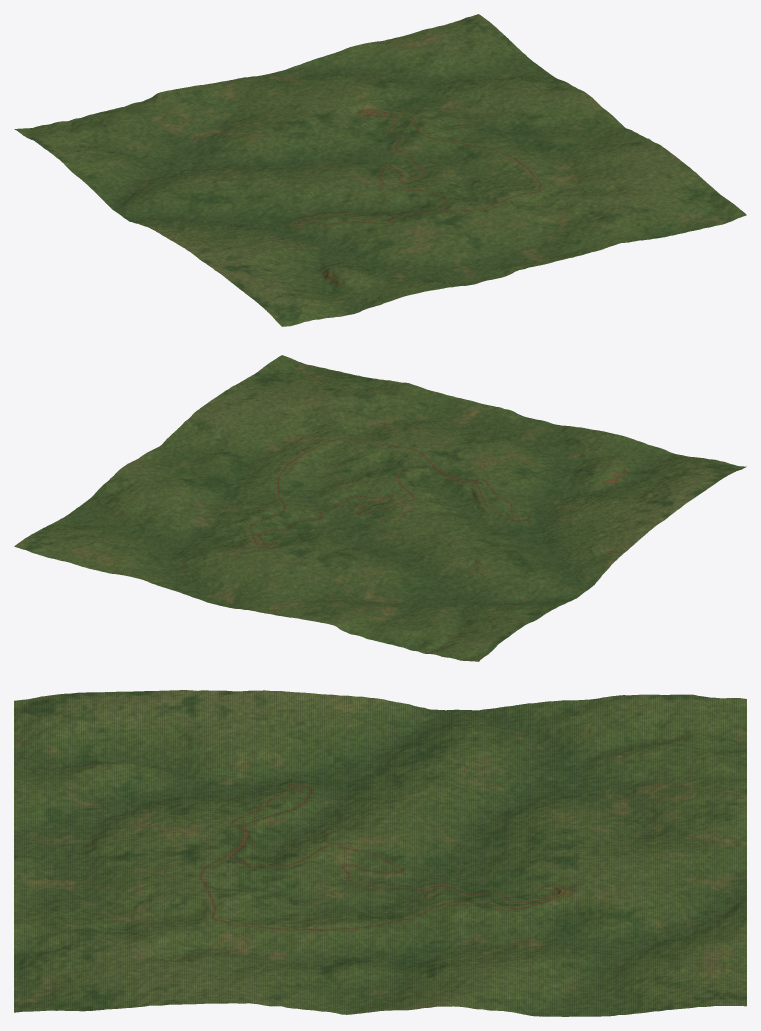
The model's file is kigali_terrain.glb.
3 views of the same model, one above another, from view 1: azimuth 30°, elevation 25°; view 2: azimuth 150°, elevation 25°; view 3: azimuth 270°, elevation 25° (orthographic). The views are drawn at different scales.
Visible parts, largest first — view 1: GroundChunk_011_000-col, GroundChunk_005_008-col, GroundChunk_013_002-col, GroundChunk_002_007-col, GroundChunk_012_001-col, GroundChunk_001_006-col, GroundChunk_005_004-col, GroundChunk_013_006-col, GroundChunk_004_008-col, GroundChunk_003_007-col, GroundChunk_003_014-col, GroundChunk_005_013-col (+103 smaller); view 2: GroundChunk_001_005-col, GroundChunk_013_011-col, GroundChunk_004_009-col, GroundChunk_013_010-col, GroundChunk_002_000-col, GroundChunk_014_009-col, GroundChunk_005_003-col, GroundChunk_009_001-col, GroundChunk_004_005-col, GroundChunk_006_010-col, GroundChunk_002_005-col, GroundChunk_014_004-col (+116 smaller); view 3: GroundChunk_001_013-col, GroundChunk_001_014-col, GroundChunk_001_012-col, GroundChunk_001_002-col, GroundChunk_011_005-col, GroundChunk_003_011-col, GroundChunk_002_012-col, GroundChunk_011_002-col, GroundChunk_002_011-col, GroundChunk_012_009-col, GroundChunk_002_009-col, GroundChunk_002_010-col (+244 smaller).
Part boxes in pixels (x1,y1,x2,y2): GroundChunk_011_000-col: (335,43,380,69); GroundChunk_005_008-col: (295,186,339,211); GroundChunk_013_002-col: (427,55,472,79); GroundChunk_002_007-col: (190,196,235,221); GroundChunk_012_001-col: (381,48,426,74); GroundChunk_001_006-col: (144,190,189,215); GroundChunk_005_004-col: (227,137,272,162); GroundChunk_013_006-col: (494,102,539,128); GroundChunk_004_008-col: (265,194,310,218); GroundChunk_003_007-col: (219,188,264,213); GroundChunk_003_014-col: (337,275,382,298); GroundChunk_005_013-col: (379,249,424,272); GroundChunk_001_005-col: (505,575,549,600); GroundChunk_013_011-col: (256,412,300,436); GroundChunk_004_009-col: (484,505,529,529); GroundChunk_013_010-col: (239,426,284,450); GroundChunk_002_000-col: (391,629,436,652); GroundChunk_014_009-col: (193,431,238,454); GroundChunk_005_003-col: (354,571,399,595); GroundChunk_009_001-col: (204,567,249,589); GroundChunk_004_005-col: (417,555,462,577); GroundChunk_006_010-col: (443,478,488,500); GroundChunk_002_005-col: (476,568,520,590); GroundChunk_014_004-col: (109,494,153,515); GroundChunk_001_013-col: (103,712,148,741); GroundChunk_001_014-col: (57,712,102,741); GroundChunk_001_012-col: (149,711,194,740); GroundChunk_001_002-col: (609,718,654,744); GroundChunk_011_005-col: (471,913,516,940); GroundChunk_003_011-col: (195,760,240,786); GroundChunk_002_012-col: (149,737,194,766); GroundChunk_011_002-col: (609,914,654,941); GroundChunk_002_011-col: (195,735,240,762); GroundChunk_012_009-col: (287,932,332,958); GroundChunk_002_009-col: (287,738,332,767); GroundChunk_002_010-col: (241,736,286,763).
Size of the model in its own units: 6375 by 196 by 6375.
Materials: 1 (1 with a texture image).
